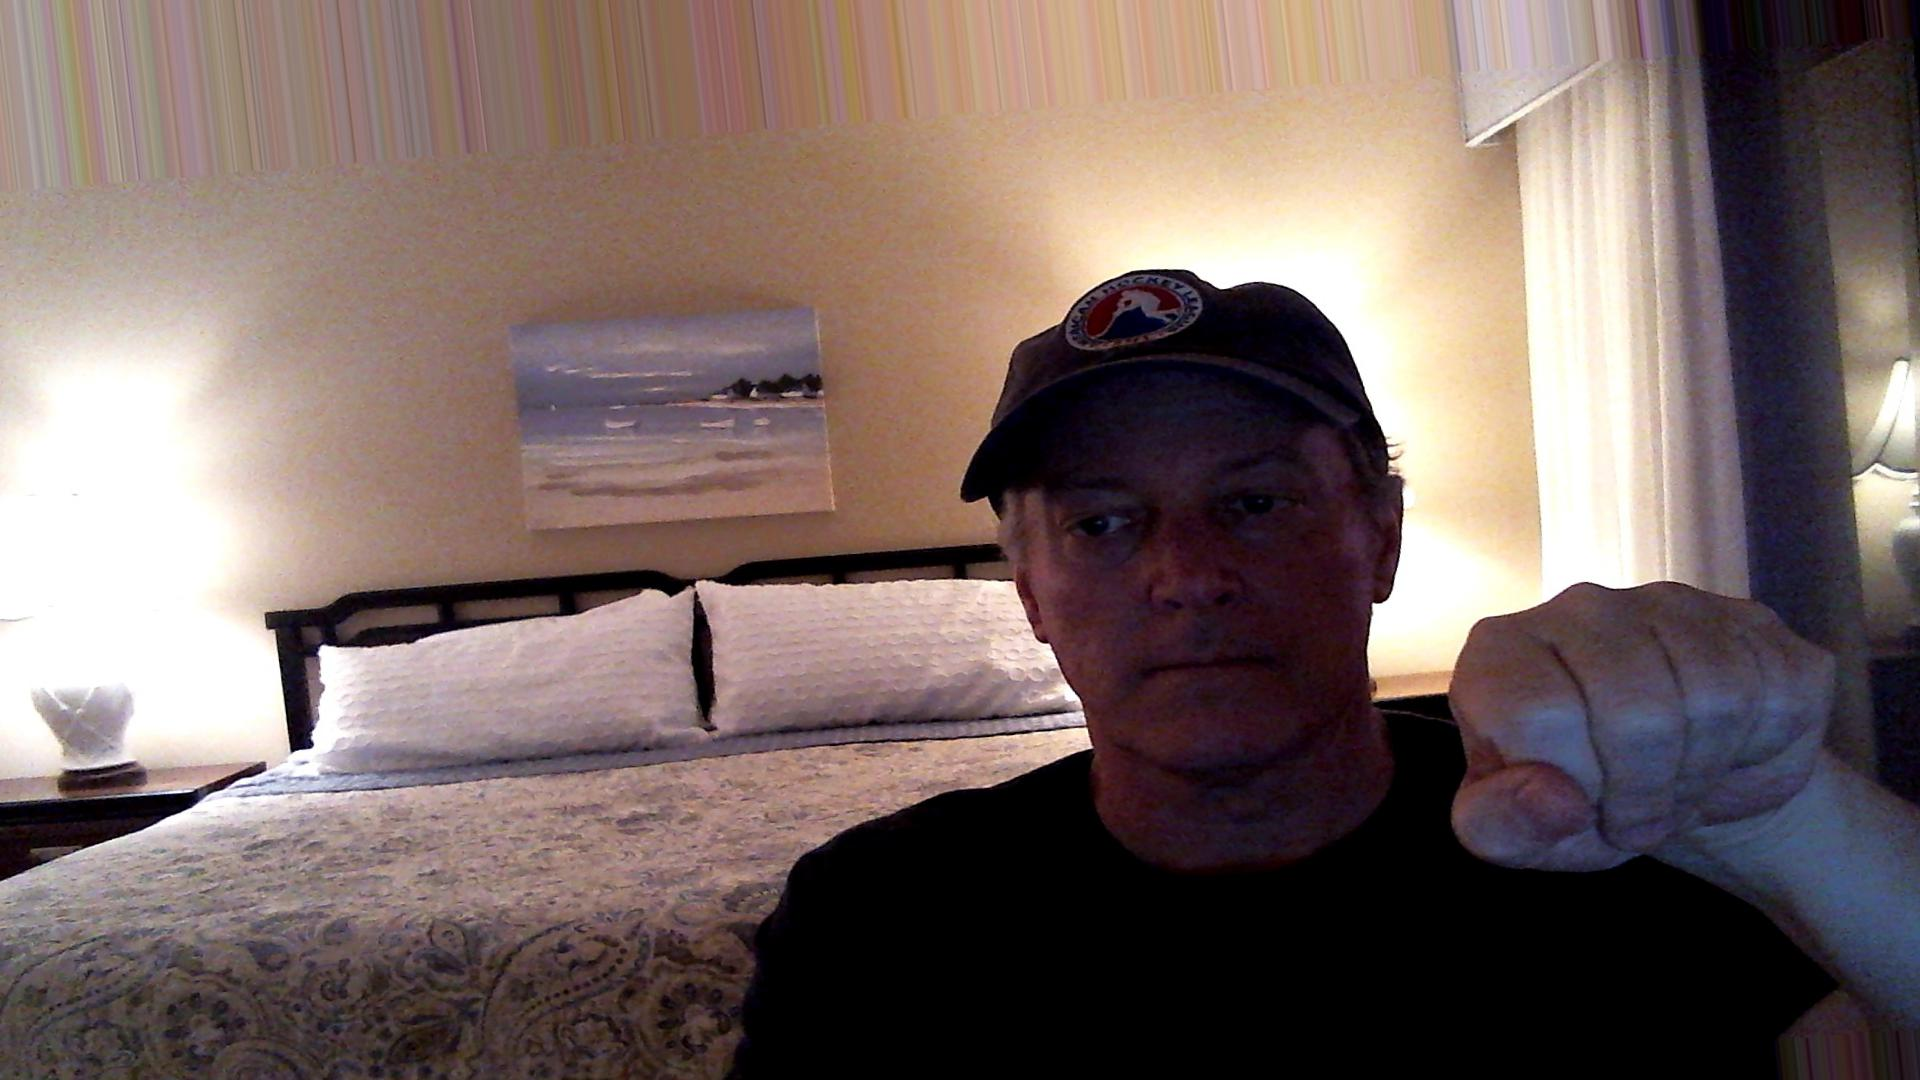Yes: (1423, 564, 1876, 895)
